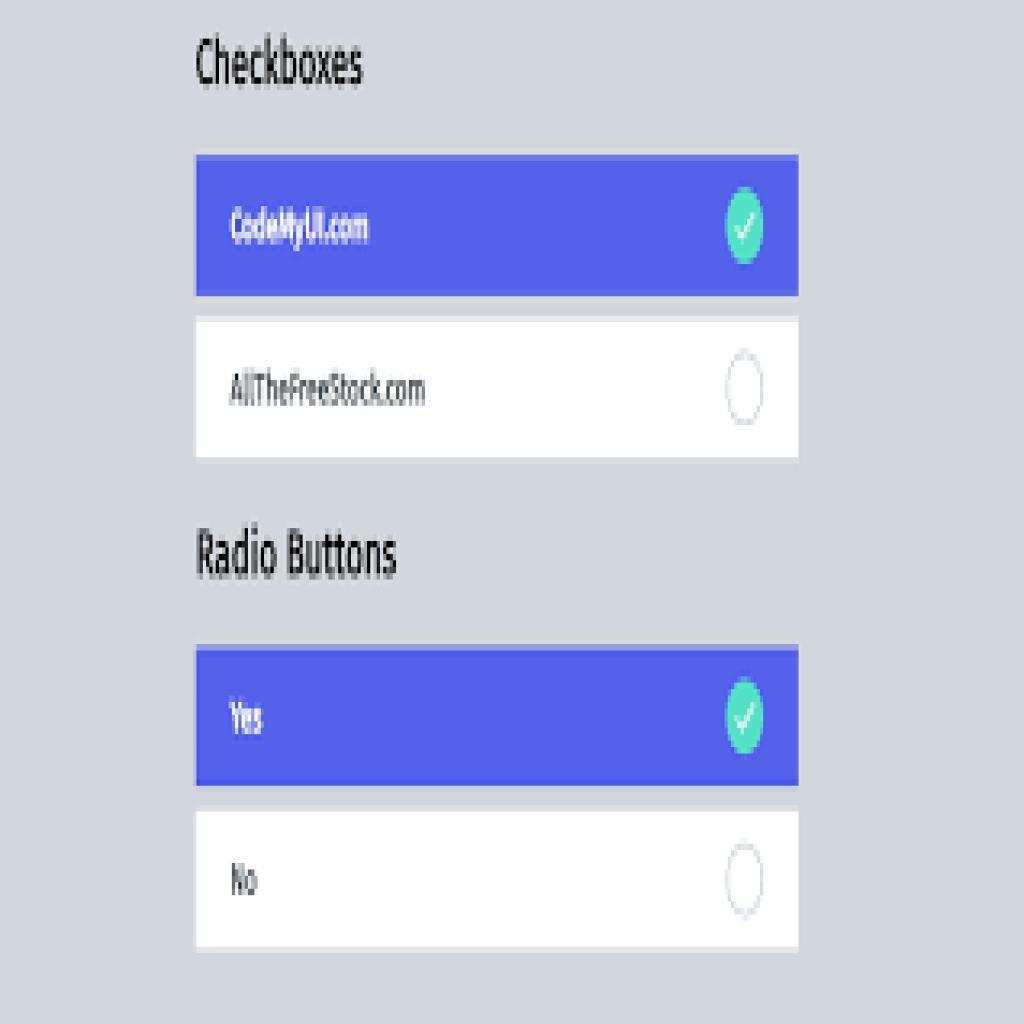checkbox: (725, 677, 768, 760), (723, 191, 768, 267)
radio: (723, 347, 770, 429), (725, 837, 766, 920)
